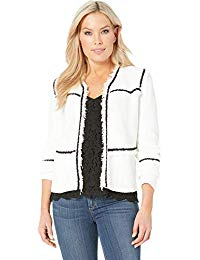F_W_suit jacket: (45, 64, 166, 197)
